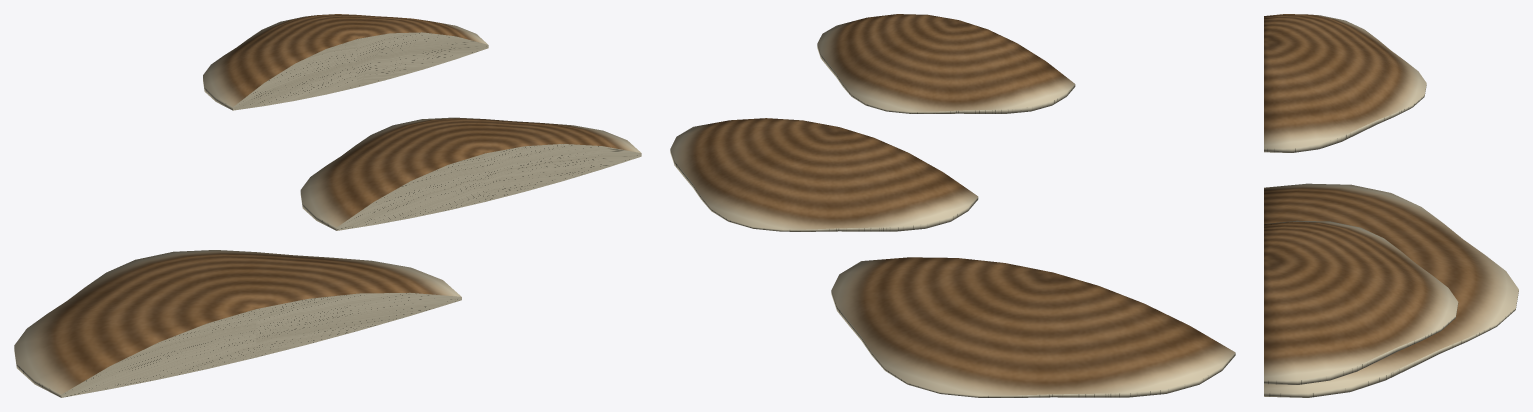
The model's file is Deadwood_Bracket_Cluster_01_LOD1.fbx.
3 views of the same model, side by side, from view 1: azimuth 30°, elevation 25°; view 2: azimuth 150°, elevation 25°; view 3: azimuth 270°, elevation 25° (orthographic). The views are drawn at different scales.
Parts seen in each view (by area): view 1: Deadwood_Bracket_Cluster_01_LOD1_Mesh; view 2: Deadwood_Bracket_Cluster_01_LOD1_Mesh; view 3: Deadwood_Bracket_Cluster_01_LOD1_Mesh.
Boxes of the visible parts, bbox=[...] form: Deadwood_Bracket_Cluster_01_LOD1_Mesh: bbox=[14, 14, 641, 397]; Deadwood_Bracket_Cluster_01_LOD1_Mesh: bbox=[670, 14, 1235, 397]; Deadwood_Bracket_Cluster_01_LOD1_Mesh: bbox=[1264, 14, 1518, 397].
Size of the model in its own units: 30.85 by 14.73 by 11.01.
Materials: 2 (2 with a texture image).
